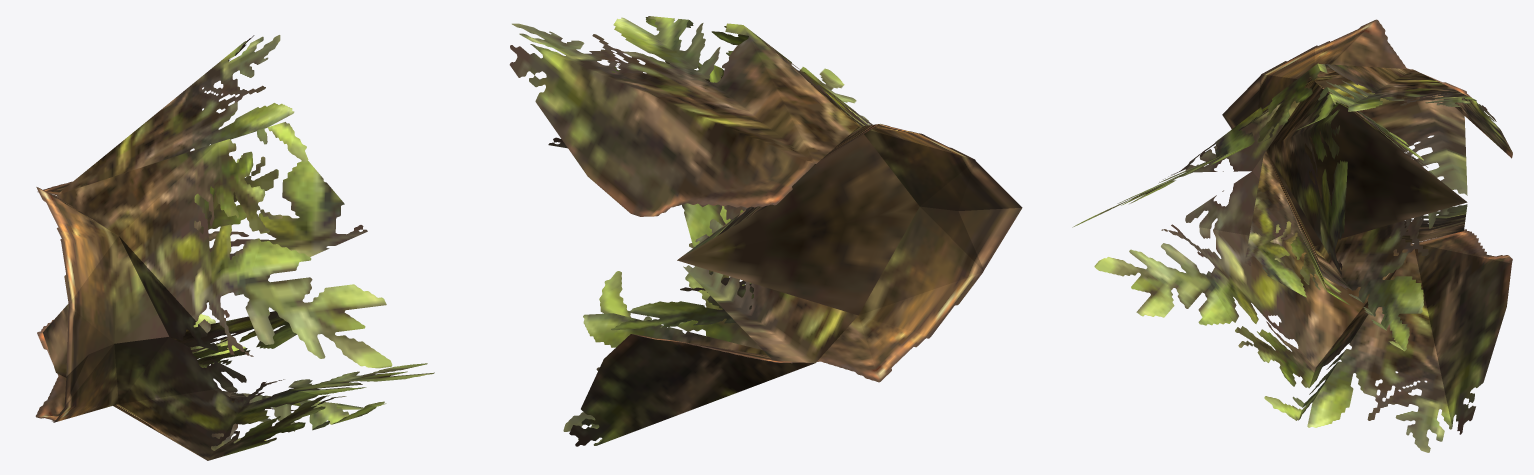
Rendered from common_shoulder_43020.obj.
3 renders of one model, left to right at view 1: azimuth 30°, elevation 25°; view 2: azimuth 150°, elevation 25°; view 3: azimuth 270°, elevation 25°, orthographic. The views are drawn at different scales.
Visible parts, largest first — view 1: common_shoulder_43020; view 2: common_shoulder_43020; view 3: common_shoulder_43020.
Part boxes in pixels (x1,y1,x2,y2): common_shoulder_43020: [35, 35, 434, 460]; common_shoulder_43020: [509, 16, 1022, 446]; common_shoulder_43020: [1072, 19, 1512, 452].
Bounding box in the file's own units: 17.98 × 18.34 × 20.43.
Materials: 1 (1 with a texture image).
